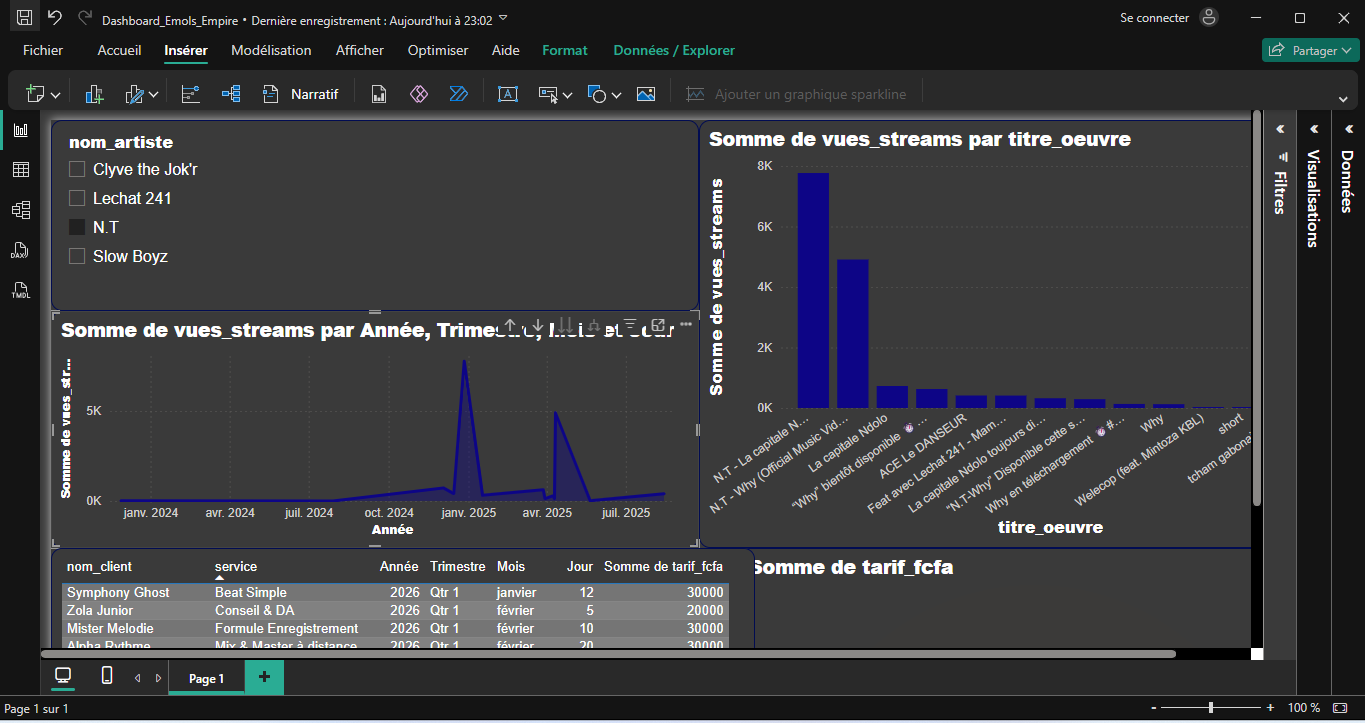

The page's visual inventory and layout, read from the dashboard file:
{"tool":"powerbi","page":{"name":"Page 1","canvas":[1280,720],"ordinal":0},"visuals":[{"type":"clusteredColumnChart","fields":{"Category":["emols_db label_stats.titre_oeuvre"],"Y":["Sum(emols_db label_stats.vues_streams)"]},"box":[648.4,0,629.9,428.3],"z":0},{"type":"slicer","fields":{"Values":["emols_db label_stats.nom_artiste"]},"box":[0,0,648,191],"z":2},{"type":"gauge","fields":{"Y":["Sum(emols_db studio_business.tarif_fcfa)"]},"box":[688,428,590,292],"z":3},{"type":"areaChart","fields":{"Category":["emols_db label_stats.date_pub.Variation.Hiérarchie de dates.Année","emols_db label_stats.date_pub.Variation.Hiérarchie de dates.Trimestre","emols_db label_stats.date_pub.Variation.Hiérarchie de dates.Mois","emols_db label_stats.date_pub.Variation.Hiérarchie de dates.Jour"],"Y":["Sum(emols_db label_stats.vues_streams)"]},"box":[0,191,648,237],"z":4},{"type":"tableEx","fields":{"Values":["emols_db studio_business.nom_client","emols_db studio_business.service","emols_db studio_business.date_prestation.Variation.Hiérarchie de dates.Année","emols_db studio_business.date_prestation.Variation.Hiérarchie de dates.Trimestre","emols_db studio_business.date_prestation.Variation.Hiérarchie de dates.Mois","emols_db studio_business.date_prestation.Variation.Hiérarchie de dates.Jour","Sum(emols_db studio_business.tarif_fcfa)"]},"box":[0,428,704,292],"z":5}]}

Visuals, with their boxes on the page's 1280x720 design canvas (x1, y1, x2, y2). These are canvas units, not pixel positions in the 1365x723 screenshot, which may show the page scaled, cropped or inside an application window:
clusteredColumnChart - emols_db label_stats.titre_oeuvre x Sum(emols_db label_stats.vues_streams): l=648, t=0, r=1278, b=428
slicer - emols_db label_stats.nom_artiste: l=0, t=0, r=648, b=191
gauge - Sum(emols_db studio_business.tarif_fcfa): l=688, t=428, r=1278, b=720
areaChart - emols_db label_stats.date_pub.Variation.Hiérarchie de dates.Année x emols_db label_stats.date_pub.Variation.Hiérarchie de dates.Trimestre: l=0, t=191, r=648, b=428
tableEx - emols_db studio_business.nom_client x emols_db studio_business.service: l=0, t=428, r=704, b=720
